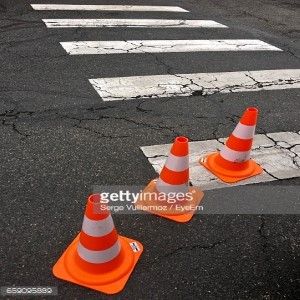traffic cone: (52, 192, 143, 294), (134, 135, 204, 222), (199, 106, 262, 183)
